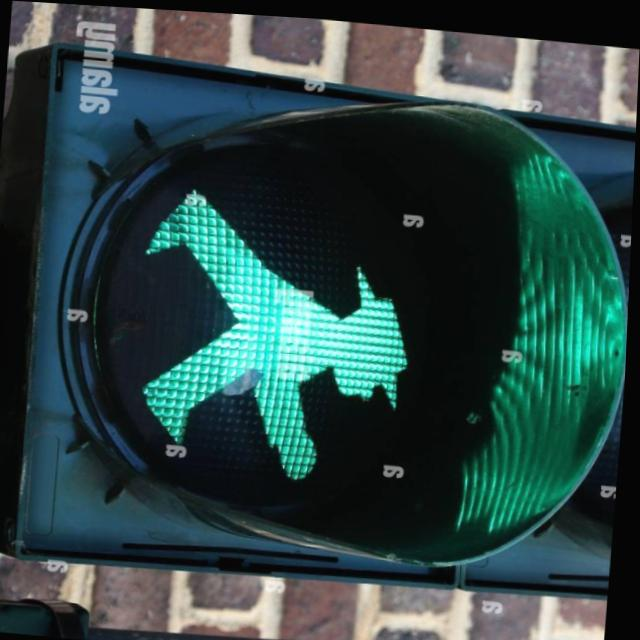green_light: (132, 207, 432, 442)
